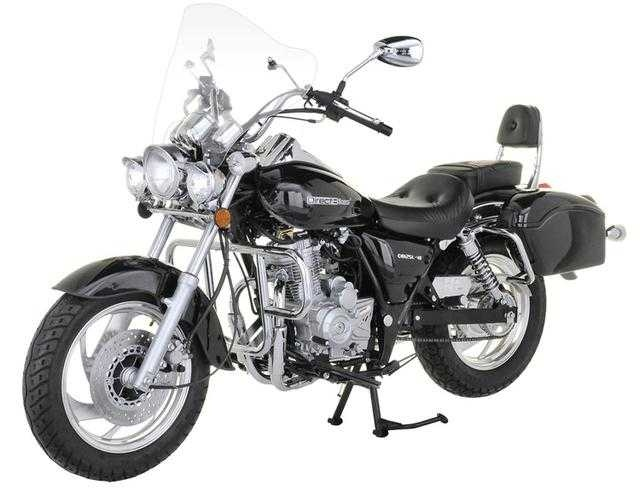motorbike: (20, 37, 605, 482)
